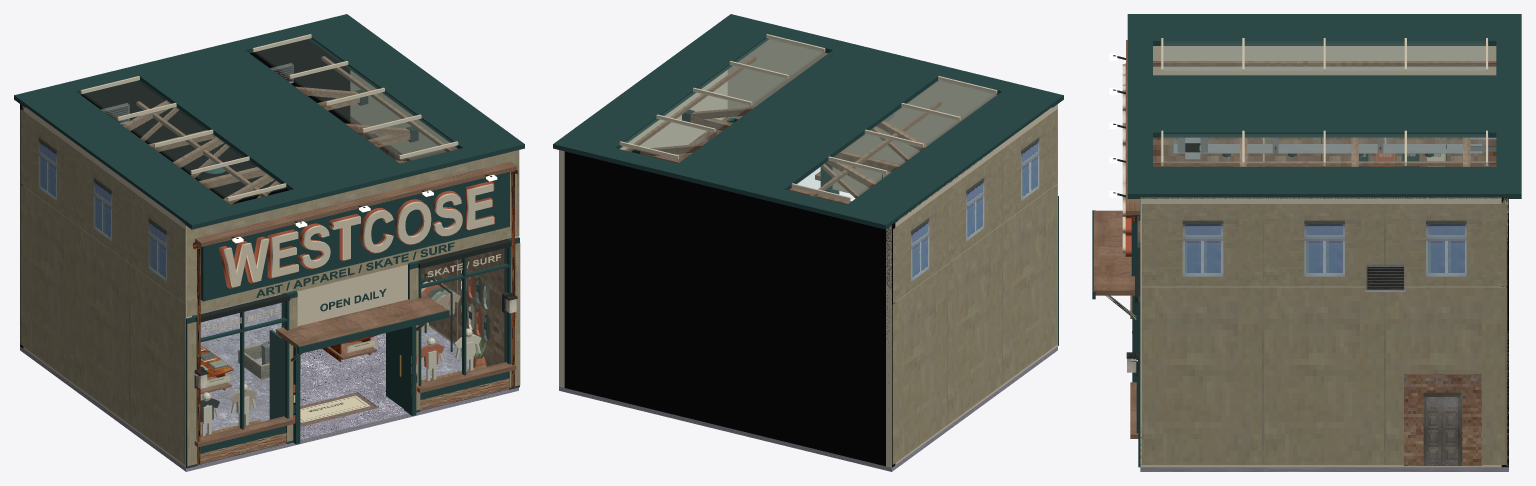
Rendered from shop.glb.
3 views of the same model, side by side, from view 1: azimuth 30°, elevation 25°; view 2: azimuth 150°, elevation 25°; view 3: azimuth 270°, elevation 25° (orthographic). The views are drawn at different scales.
Visible parts, largest first — view 1: shop-shell--wc:itch-opaque-atlas, shop-shell--wc:custom-painted-palette, shop-roof--wc:custom-painted-palette, shop-roof--wc:window-glass, shop-shell--wc:worn-concrete, shop-shell--wc:weathered-timber, shop-interior--wc:weathered-timber, shop-interior--wc:custom-painted-palette, shop-interior--wc:original-graphics, shop-interior--wc:itch-opaque-atlas, courtyard-planter--wc:source-e697c860bcbb5502, shop-interior--wc:source-467130384c28f510 (+2 smaller); view 2: shop-shell--wc:custom-painted-palette, shop-roof--wc:custom-painted-palette, shop-shell--wc:itch-opaque-atlas, shop-roof--wc:window-glass, shop-interior--wc:weathered-timber, shop-shell--wc:worn-concrete; view 3: shop-shell--wc:itch-opaque-atlas, shop-roof--wc:custom-painted-palette, shop-roof--wc:window-glass, shop-shell--wc:custom-painted-palette, shop-interior--wc:weathered-timber, shop-shell--wc:weathered-timber, shop-interior--wc:itch-opaque-atlas, shop-shell--wc:worn-concrete, shop-interior--wc:original-graphics.
Part boxes in pixels (x1,y1,x2,y2): shop-shell--wc:itch-opaque-atlas: [20, 109, 520, 466]; shop-shell--wc:custom-painted-palette: [20, 39, 519, 468]; shop-roof--wc:custom-painted-palette: [14, 14, 524, 229]; shop-roof--wc:window-glass: [83, 38, 456, 201]; shop-shell--wc:worn-concrete: [20, 294, 518, 471]; shop-shell--wc:weathered-timber: [194, 161, 516, 447]; shop-interior--wc:weathered-timber: [122, 56, 452, 394]; shop-interior--wc:custom-painted-palette: [198, 89, 489, 436]; shop-interior--wc:original-graphics: [207, 253, 487, 422]; shop-interior--wc:itch-opaque-atlas: [101, 63, 486, 367]; courtyard-planter--wc:source-e697c860bcbb5502: [238, 343, 300, 379]; shop-interior--wc:source-467130384c28f510: [300, 392, 378, 426]; shop-shell--wc:custom-painted-palette: [559, 39, 1058, 467]; shop-roof--wc:custom-painted-palette: [553, 14, 1063, 229]; shop-shell--wc:itch-opaque-atlas: [676, 109, 1057, 464]; shop-roof--wc:window-glass: [621, 38, 994, 201]; shop-interior--wc:weathered-timber: [625, 56, 941, 204]; shop-shell--wc:worn-concrete: [559, 346, 1057, 471]; shop-shell--wc:itch-opaque-atlas: [1131, 137, 1507, 465]; shop-roof--wc:custom-painted-palette: [1127, 14, 1521, 198]; shop-roof--wc:window-glass: [1161, 41, 1488, 165]; shop-shell--wc:custom-painted-palette: [1092, 46, 1508, 467]; shop-interior--wc:weathered-timber: [1153, 61, 1496, 166]; shop-shell--wc:weathered-timber: [1094, 40, 1140, 438]; shop-interior--wc:itch-opaque-atlas: [1171, 137, 1496, 166]; shop-shell--wc:worn-concrete: [1140, 467, 1508, 471]; shop-interior--wc:original-graphics: [1359, 146, 1445, 166].
Size of the model in its own units: 12.77 by 9.2 by 12.7.
20 materials, 17 textured.
